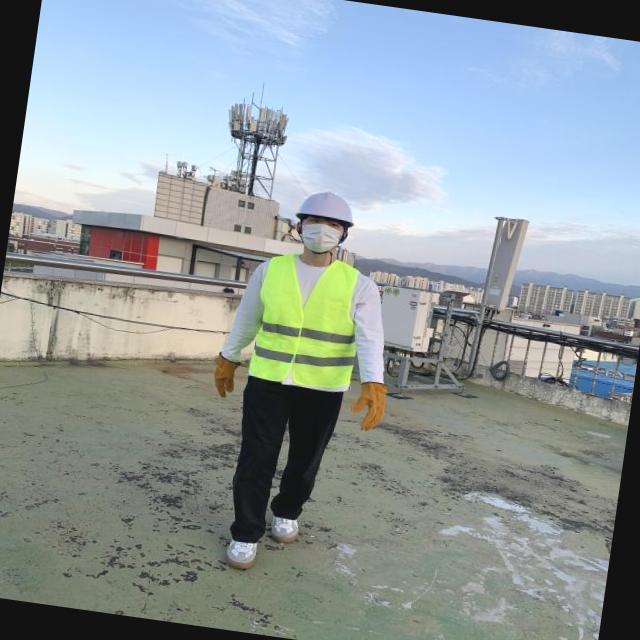boots: (222, 540, 260, 572), (269, 516, 302, 546)
helmet: (294, 187, 360, 228)
vest: (248, 250, 368, 391)
